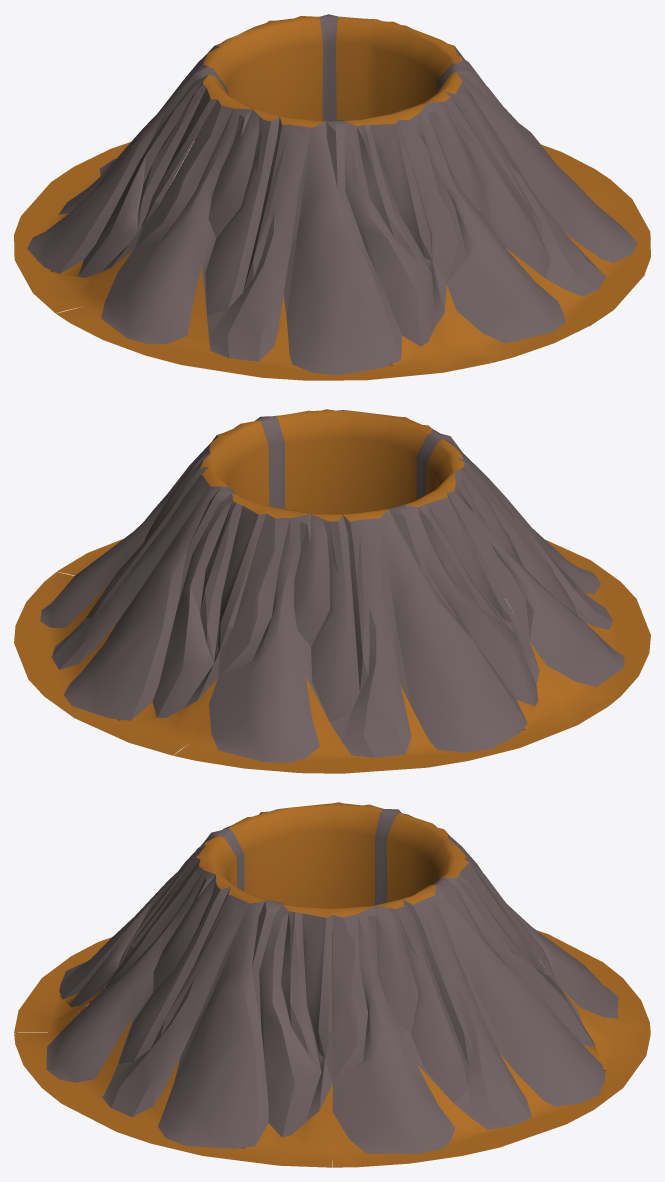
File: SM_Volcano.fbx
The picture shows the model from 3 angles, top to bottom: view 1: azimuth 30°, elevation 25°; view 2: azimuth 150°, elevation 25°; view 3: azimuth 270°, elevation 25°; orthographic projection.
Visible parts, largest first — view 1: Group60034; view 2: Group60034; view 3: Group60034.
Part boxes in pixels (x1=…): Group60034: x1=14, y1=14, x2=650, y2=380; Group60034: x1=14, y1=409, x2=650, y2=773; Group60034: x1=14, y1=802, x2=650, y2=1167.
Size of the model in its own units: 1310 by 401 by 1310.
